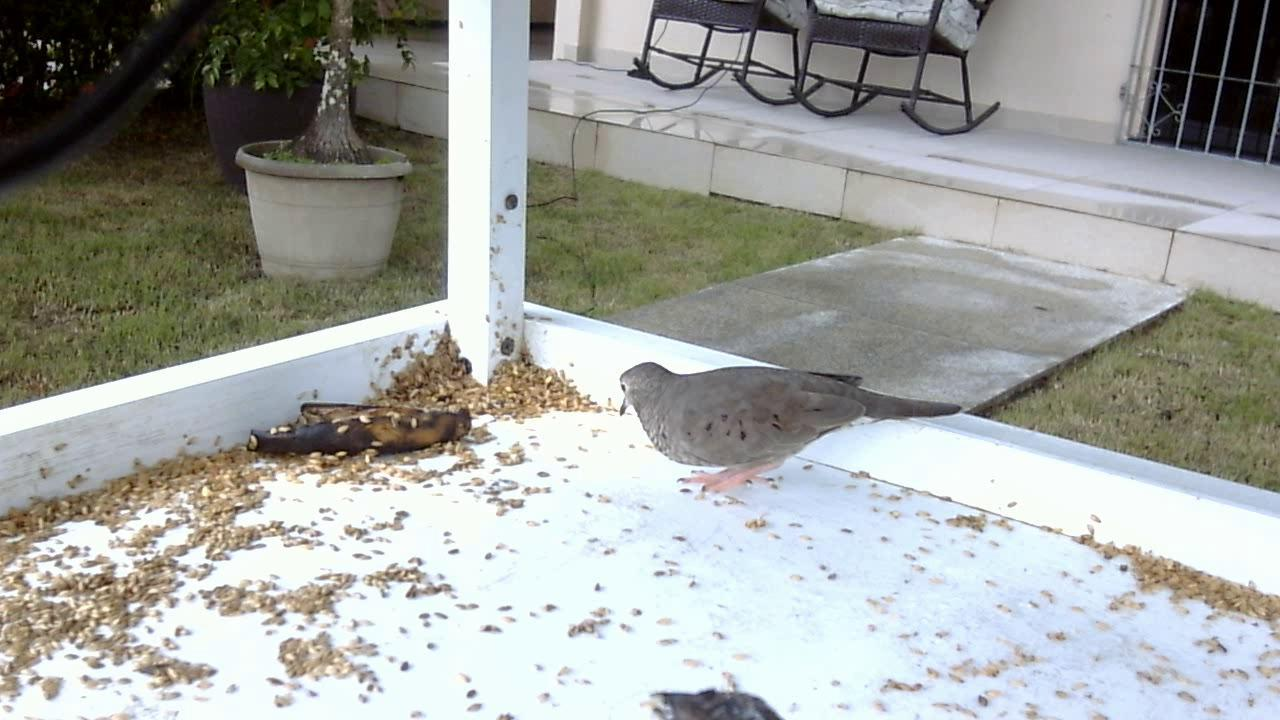rolinha: (603, 338, 961, 502)
